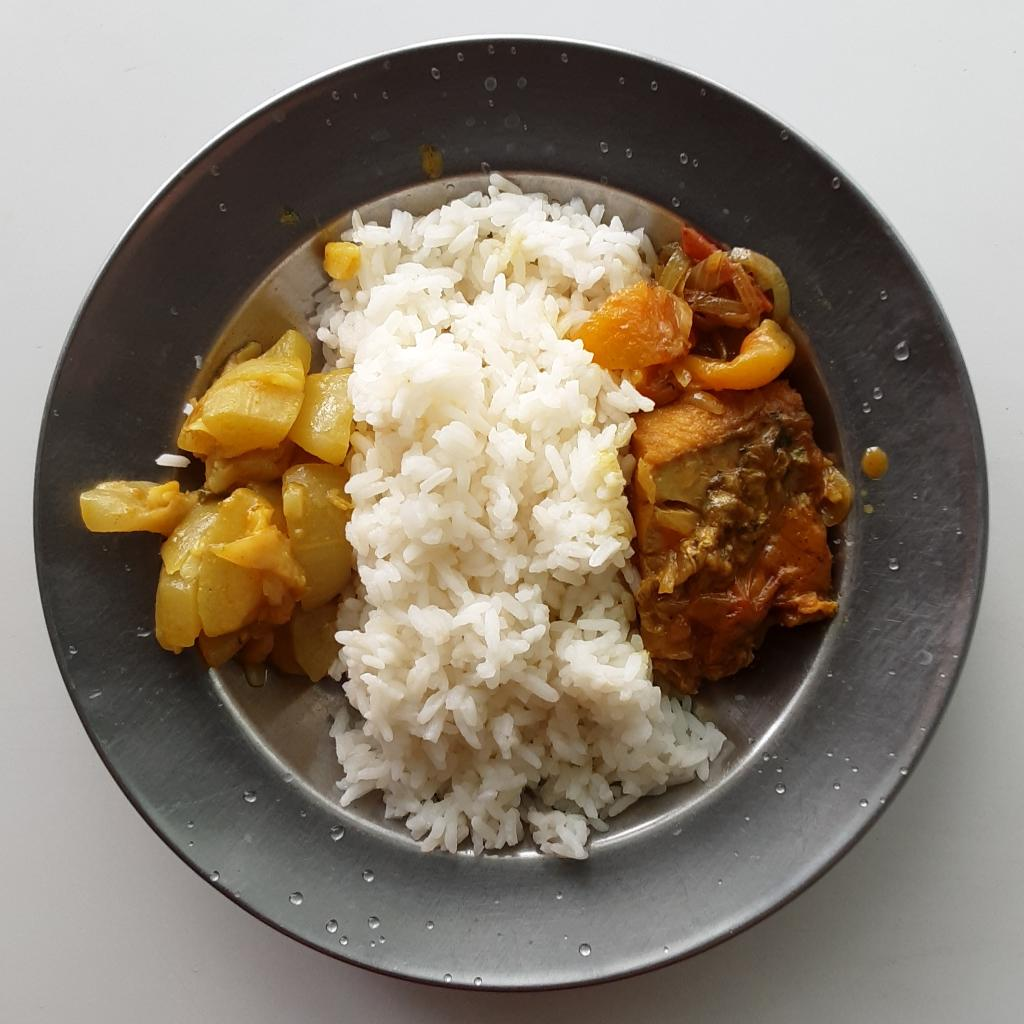fish: (627, 377, 855, 706)
lau: (83, 328, 357, 692)
rice: (307, 163, 720, 855)
tomato: (574, 235, 796, 404)
